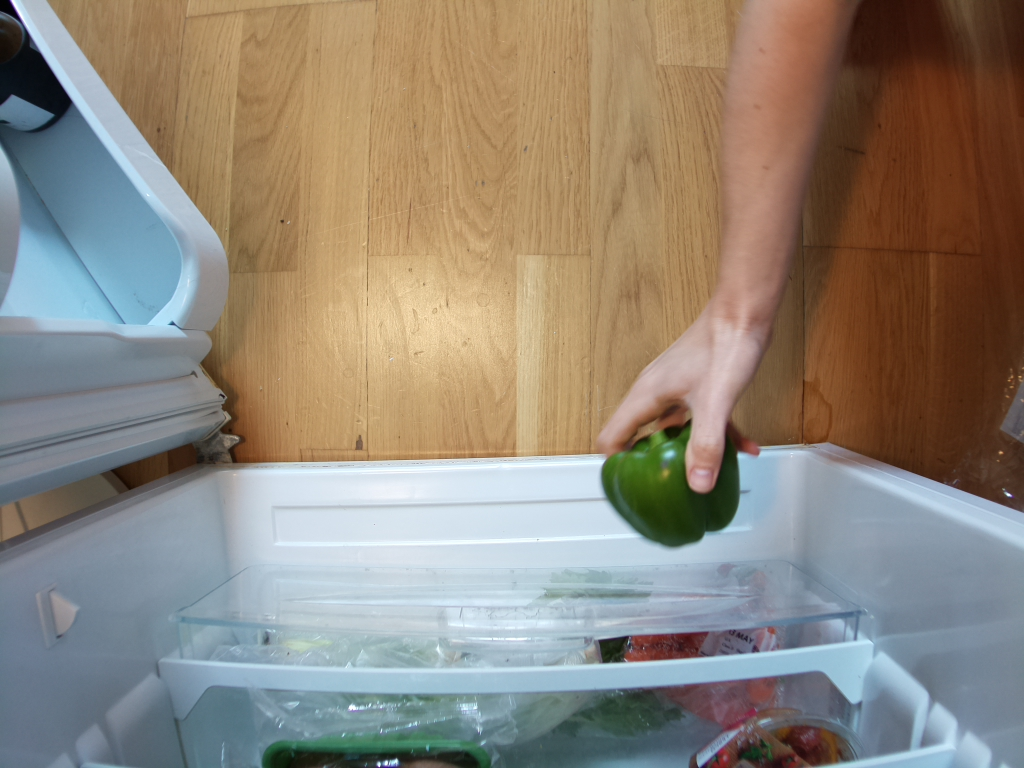pepper: (600, 415, 742, 548)
